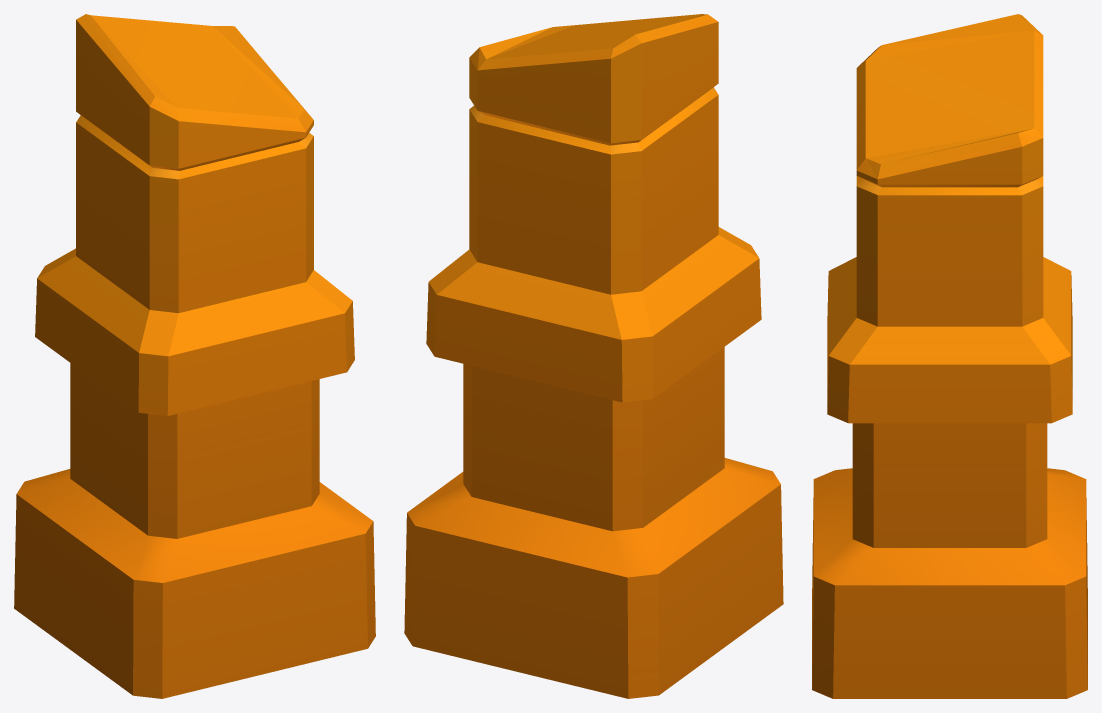
Rendered from Pillar Broken 01.fbx.
3 views of the same model, side by side, from view 1: azimuth 30°, elevation 25°; view 2: azimuth 150°, elevation 25°; view 3: azimuth 270°, elevation 25° (orthographic). The views are drawn at different scales.
Parts seen in each view (by area): view 1: Pillar Broken 01; view 2: Pillar Broken 01; view 3: Pillar Broken 01.
Part boxes in pixels (bbox=[...]): Pillar Broken 01: bbox=[14, 14, 375, 698]; Pillar Broken 01: bbox=[404, 14, 783, 698]; Pillar Broken 01: bbox=[812, 14, 1087, 698].
Size of the model in its own units: 71.87 by 170 by 71.89.
